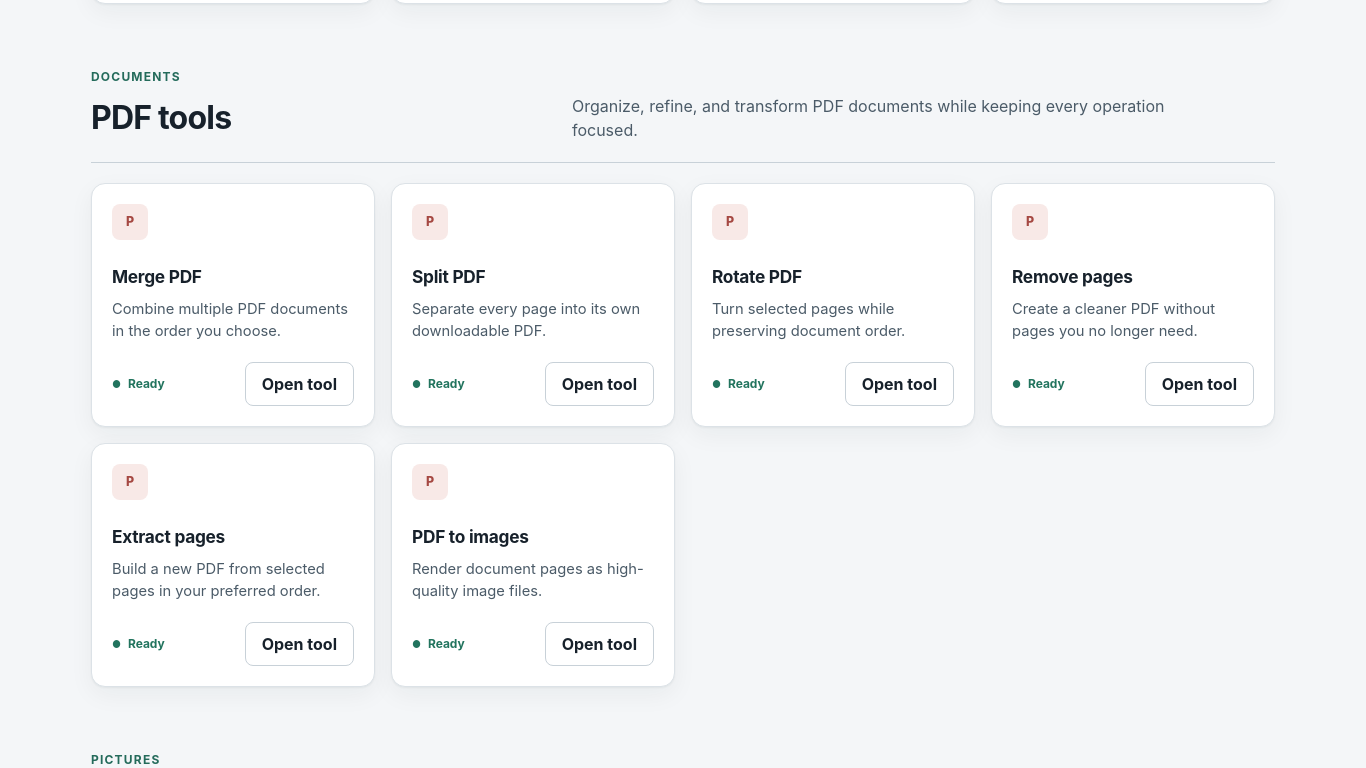
Test case: DocuForge application shell › opens the operational Merge PDF card
(page scrolled)
Click the button with aria-label "Open Merge PDF" at (299, 384), box [245,362,354,406]
(page scrolled)
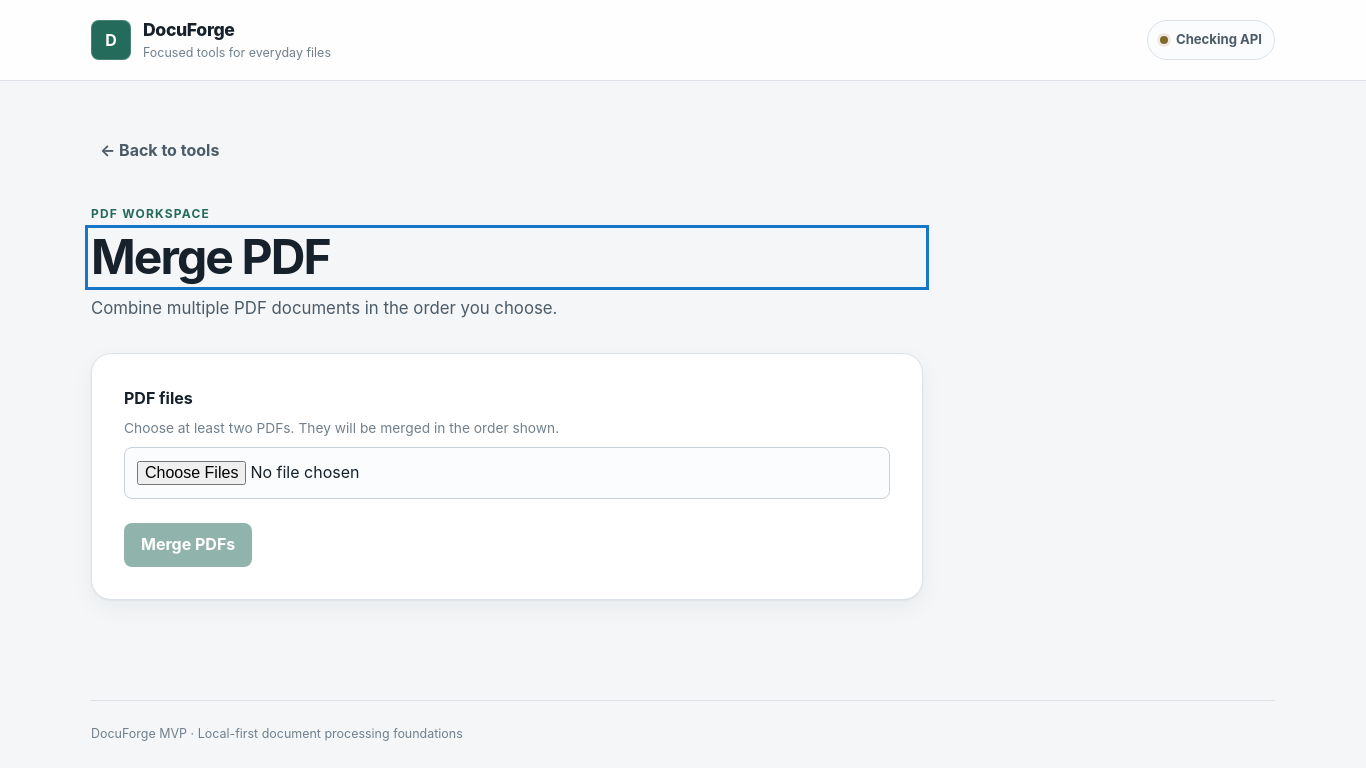
Expected: the heading "Merge PDF" is shown, [91,227,330,286]
Expected: the form is shown, [124,386,890,567]
